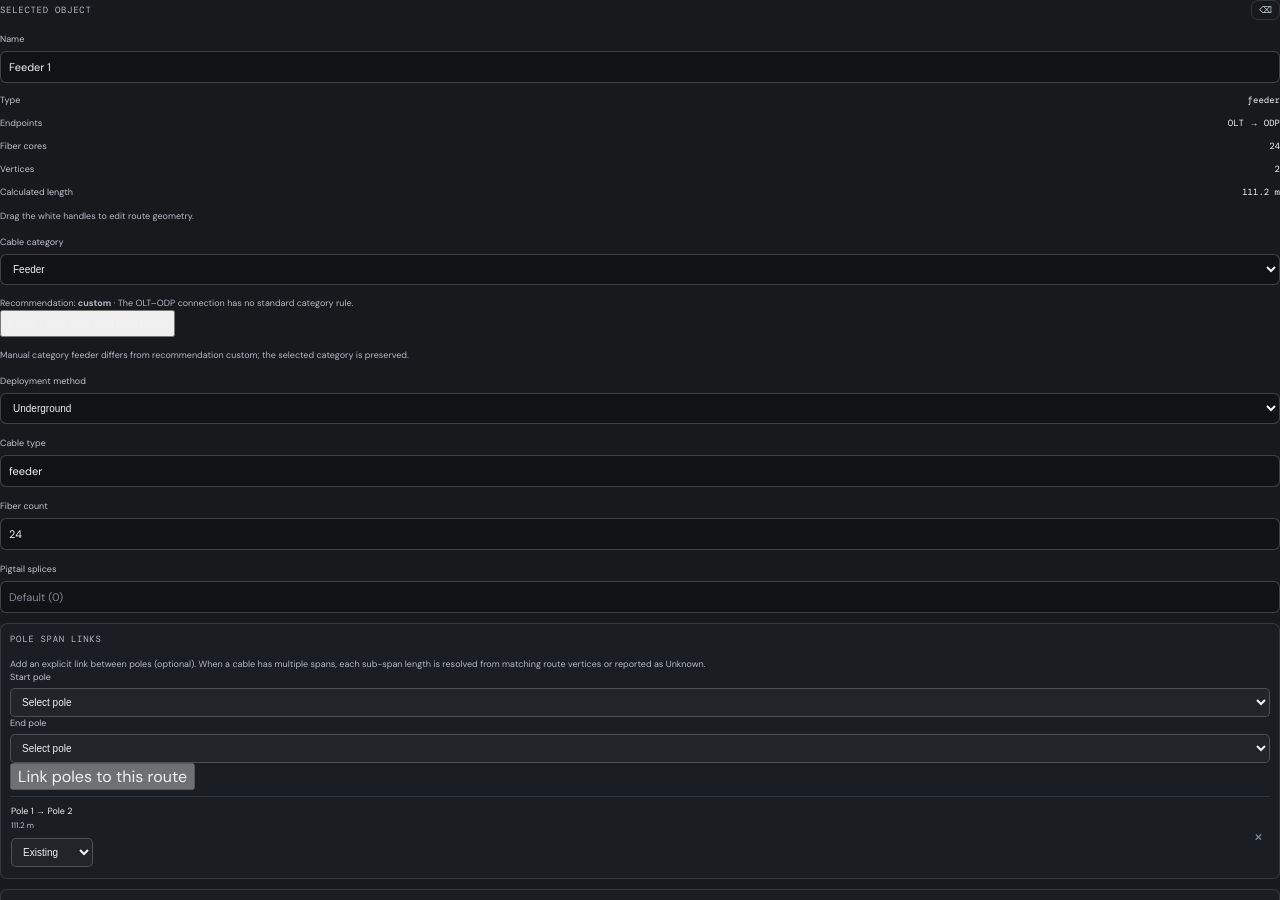
Test case: pole planning inspector › updates cable deployment method without erasing geometry or topology, hides pole-span creation for non-aerial cables, and preserves existing linked spans
This screenshot has width=1280, height=900.
Check: the dropdown named "Span start pole" is shown, box [10,688,1270,717]
Step 1. Select "Underground" in the dropdown named "Deployment method" → [640, 409], box [0,393,1279,424]
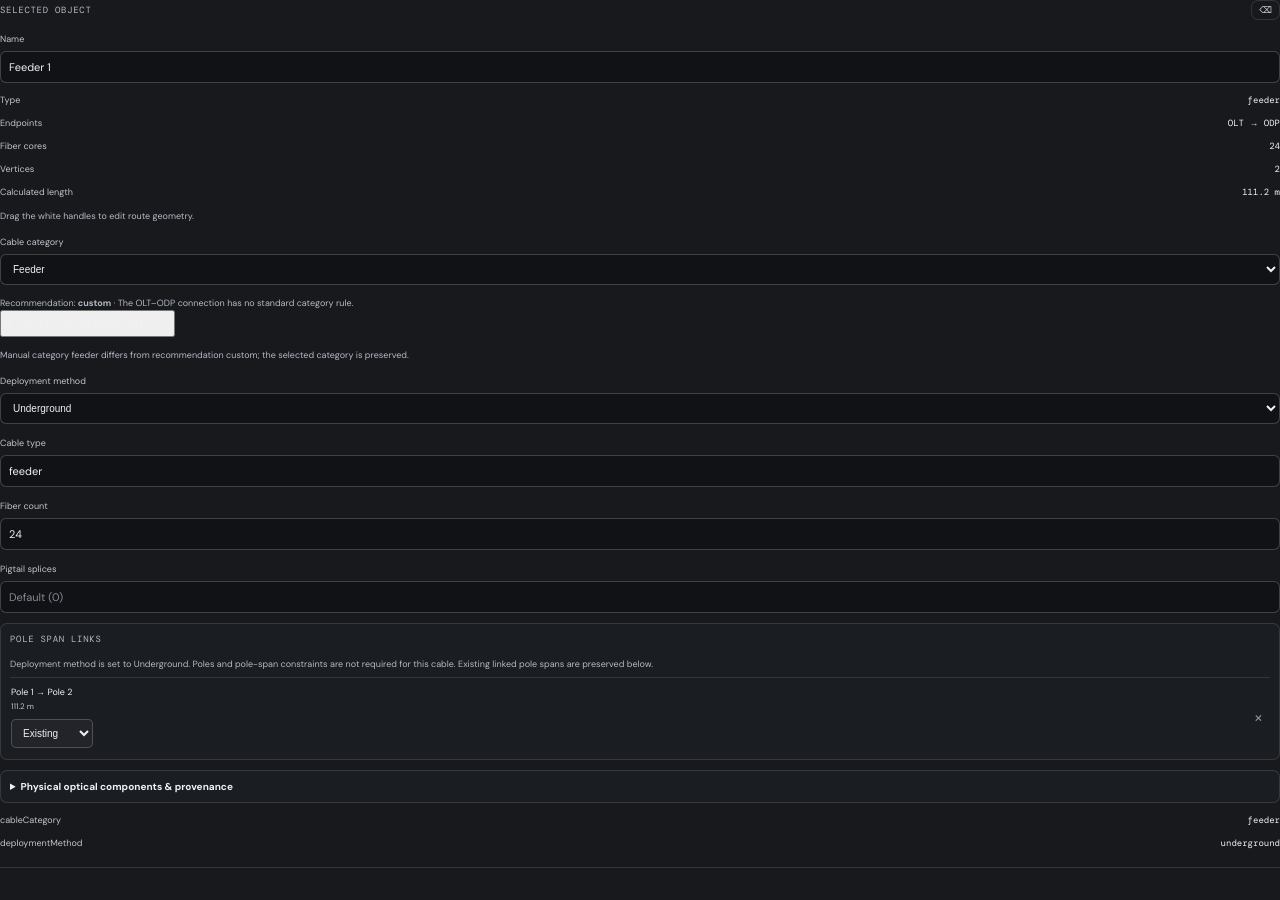
Check: the text "Pole 1 → Pole 2" is shown, box [11,686,93,748]
Check: the text "underground" is shown, box [1221,837,1279,849]
Check: the text "Poles and pole-span constraints are not required for this cable" is shown, box [188,658,456,670]
